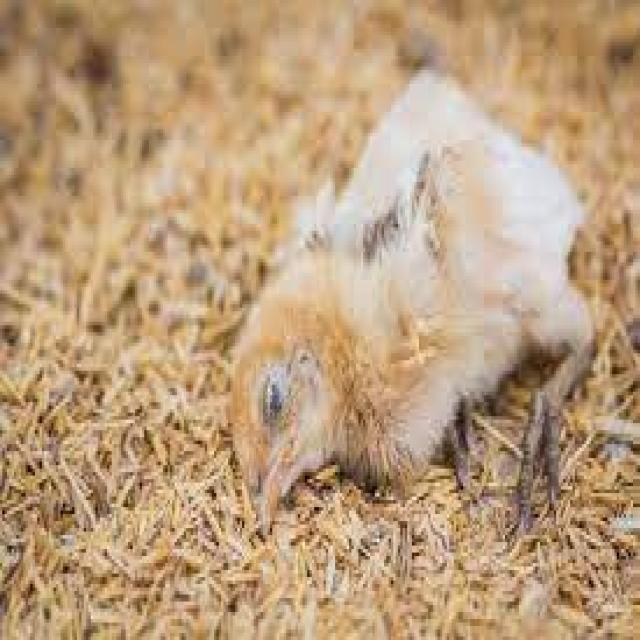poussin: (227, 61, 598, 535)
